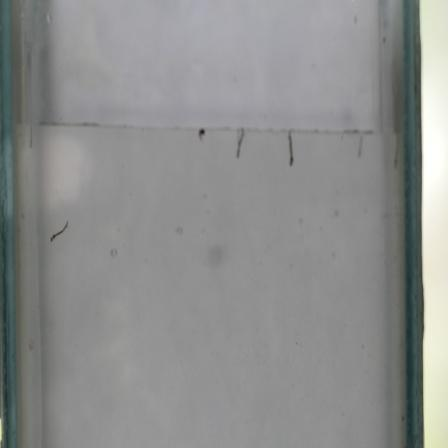Jentik-Nyamuk: (48, 220, 70, 245)
